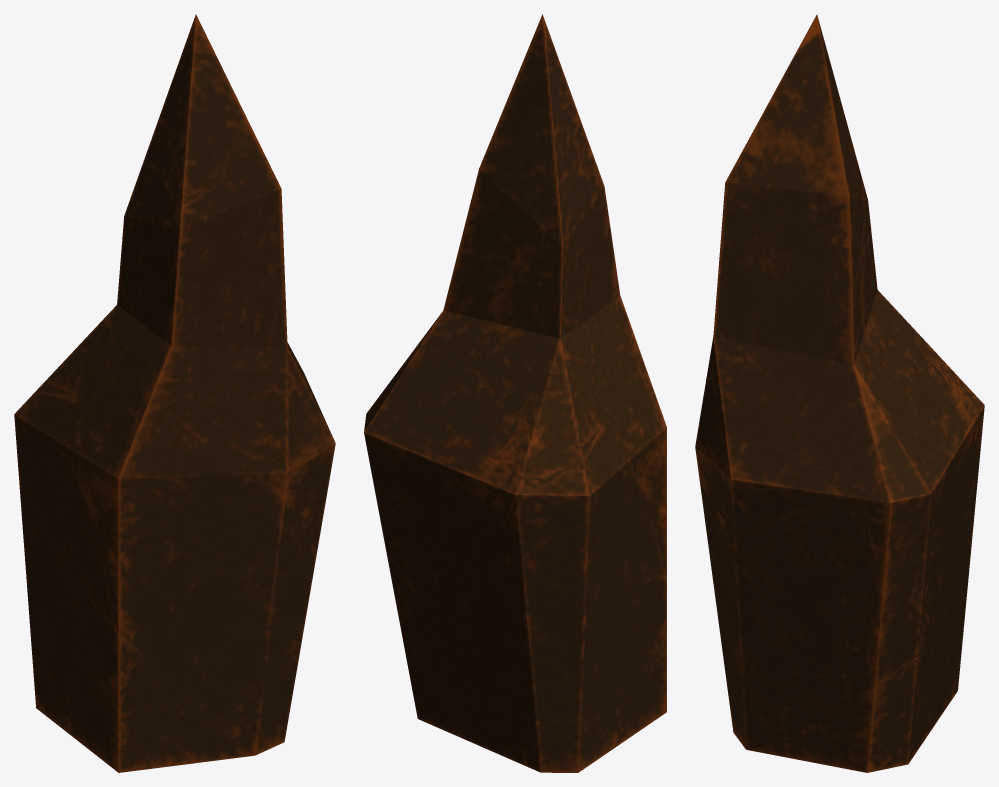
File: Crystal_individual_low_0.2.fbx
3 renders of one model, left to right at view 1: azimuth 30°, elevation 25°; view 2: azimuth 150°, elevation 25°; view 3: azimuth 270°, elevation 25°, orthographic. The views are drawn at different scales.
Parts seen in each view (by area): view 1: Crystal_Individual_low; view 2: Crystal_Individual_low; view 3: Crystal_Individual_low.
Part boxes in pixels (bbox=[...]): Crystal_Individual_low: bbox=[14, 14, 335, 772]; Crystal_Individual_low: bbox=[364, 14, 666, 772]; Crystal_Individual_low: bbox=[695, 14, 984, 772].
Size of the model in its own units: 2.07 by 5.44 by 2.01.
